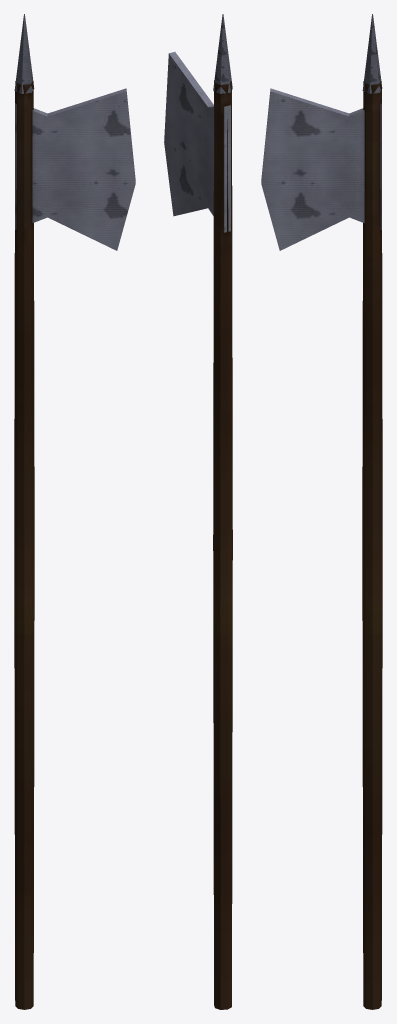
Rendered from w_axe.glb.
3 views of the same model, side by side, from view 1: azimuth 90°, elevation 25°; view 2: azimuth 210°, elevation 25°; view 3: azimuth 270°, elevation 25° (orthographic).
Visible parts, largest first — view 1: haft, head, spike; view 2: haft, head, spike; view 3: haft, head, spike.
Boxes of the visible parts, box(x1,y1,x2,y2) form: haft: box(14, 81, 34, 1009); head: box(15, 88, 135, 250); spike: box(14, 14, 34, 93); haft: box(213, 80, 232, 1009); head: box(164, 52, 230, 232); spike: box(213, 14, 232, 93); haft: box(362, 81, 382, 1009); head: box(261, 88, 381, 250); spike: box(362, 14, 382, 93).
Size of the model in its own units: 0.044 by 2.36 by 0.262.
Materials: 3 (3 with a texture image).
